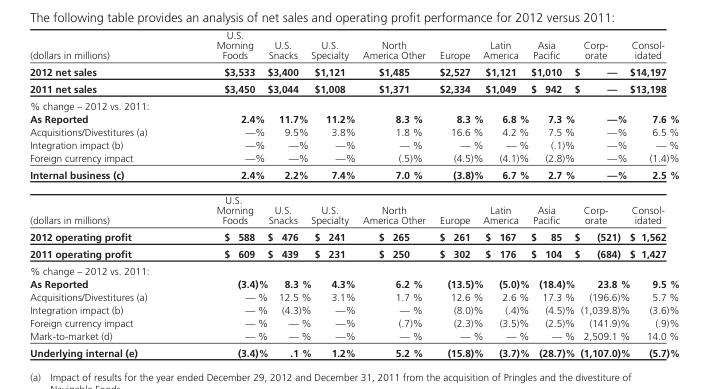table: (29, 28, 679, 358)
table column: (29, 28, 181, 358), (181, 28, 267, 358), (358, 28, 431, 358), (574, 28, 629, 358), (431, 28, 482, 358), (629, 28, 679, 358), (310, 28, 358, 358), (482, 28, 529, 358), (529, 28, 574, 358), (267, 28, 310, 358)
table column header: (29, 28, 679, 63)
table projected row header: (29, 97, 679, 111), (29, 262, 679, 276)
table row: (29, 187, 679, 228), (29, 28, 679, 63), (29, 165, 679, 187), (29, 63, 679, 80), (29, 80, 679, 97), (29, 228, 679, 245), (29, 245, 679, 262), (29, 150, 679, 165), (29, 328, 679, 343), (29, 343, 679, 358), (29, 97, 679, 111), (29, 262, 679, 276), (29, 111, 679, 124), (29, 124, 679, 137), (29, 137, 679, 150), (29, 276, 679, 289), (29, 289, 679, 302), (29, 302, 679, 315), (29, 315, 679, 328)
